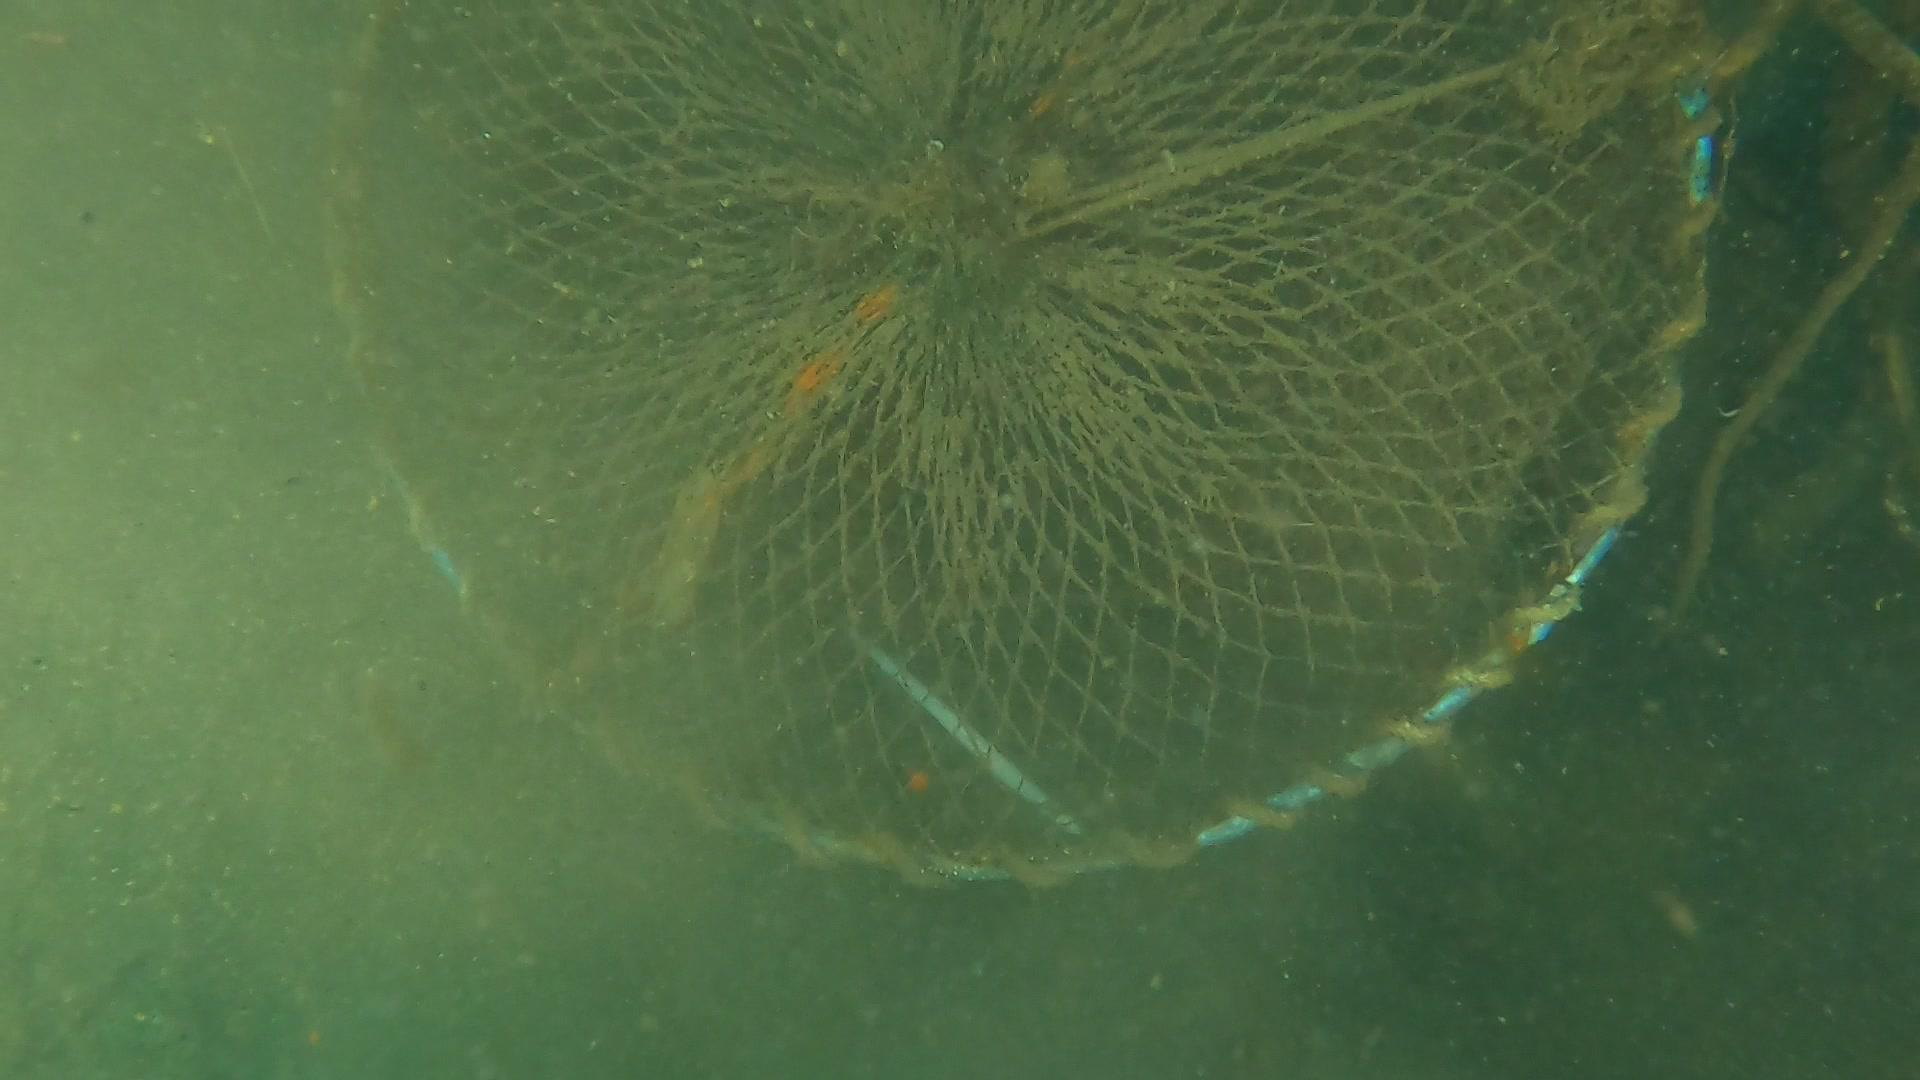circular fish trap: (324, 0, 1716, 882)
